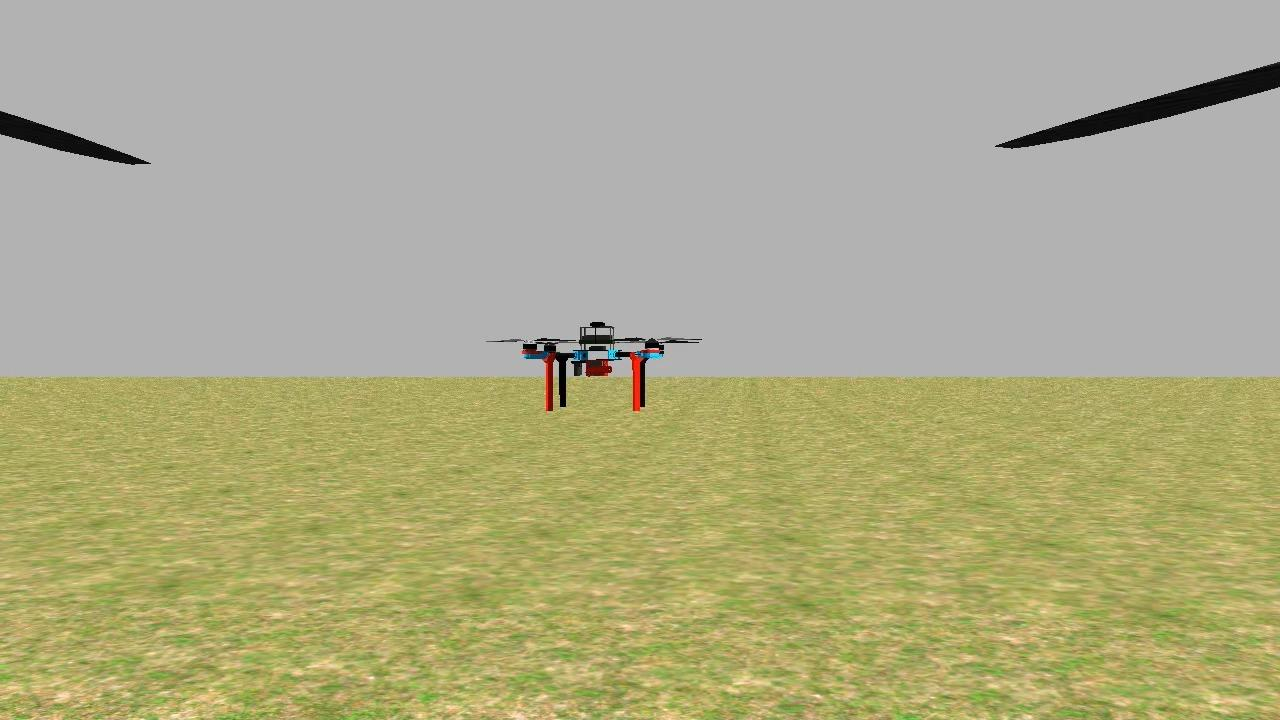UAV: (513, 305, 681, 420)
